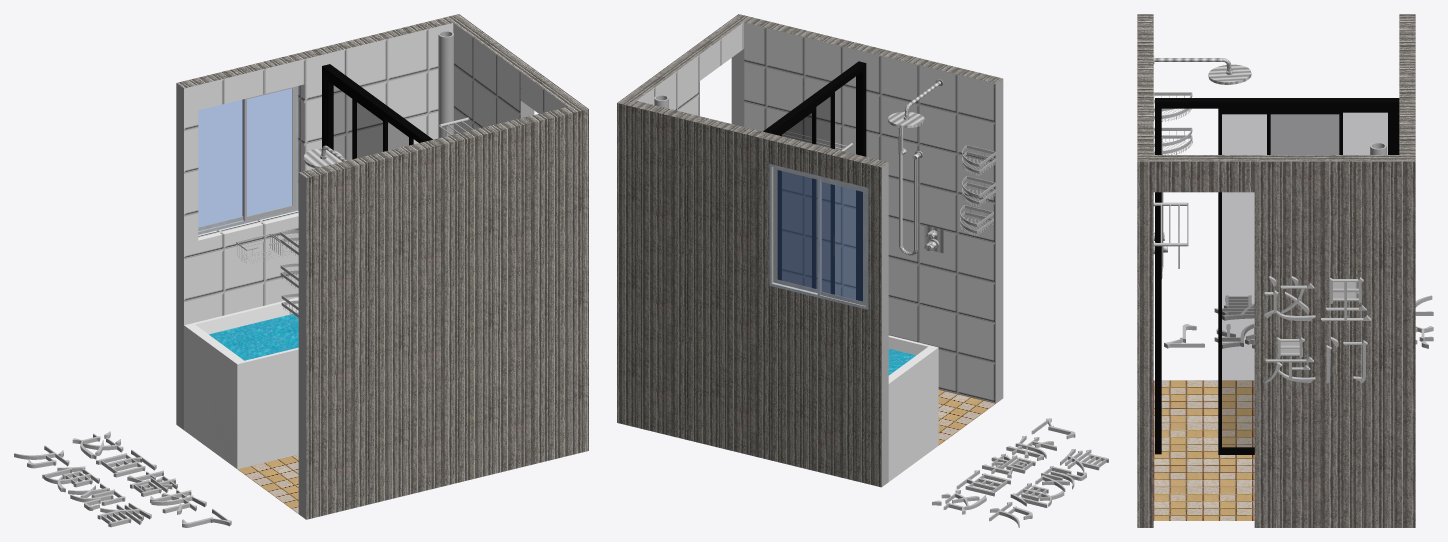
The model's file is qiqi.gltf.
3 views of the same model, side by side, from view 1: azimuth 30°, elevation 25°; view 2: azimuth 150°, elevation 25°; view 3: azimuth 270°, elevation 25° (orthographic). The views are drawn at different scales.
Visible parts, largest first — view 1: root; view 2: root; view 3: root.
Boxes of the visible parts, x1=… form: root: x1=14, y1=14, x2=588, y2=527; root: x1=617, y1=14, x2=1108, y2=527; root: x1=1137, y1=14, x2=1433, y2=527.
Size of the model in its own units: 3.24 by 2.4 by 1.76.
Materials: 15 (6 with a texture image).
